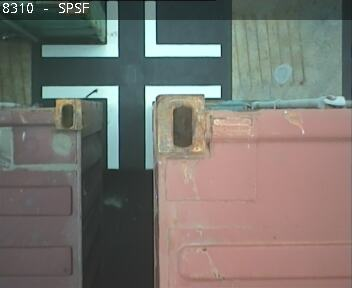groundmarker_1: (40, 85, 222, 169), (39, 1, 221, 57)
